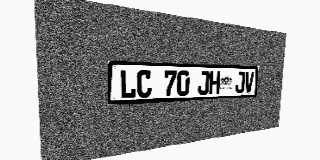0: (177, 71, 190, 96)
7: (163, 70, 177, 97)
C: (137, 70, 152, 98)
H: (209, 71, 220, 94)
J: (197, 71, 210, 95), (235, 72, 245, 93)
L: (120, 69, 136, 99)
V: (244, 72, 254, 93)
